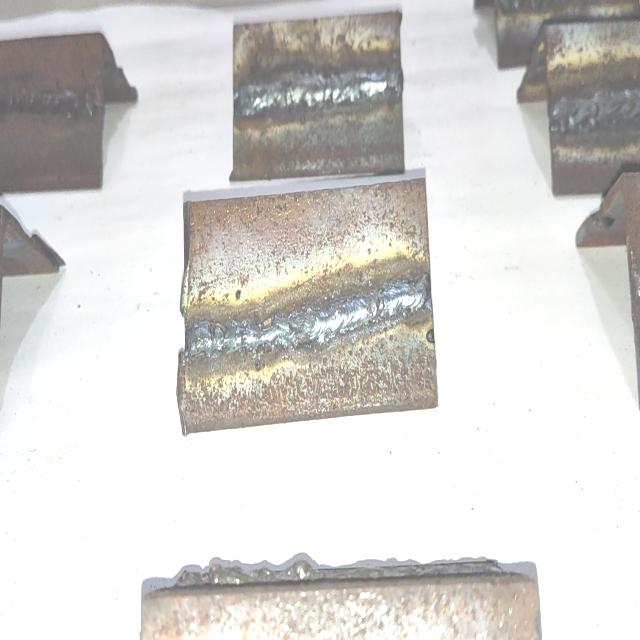Bad Weld: (186, 272, 430, 362)
Defect: (186, 319, 311, 359)
Good Weld: (235, 64, 402, 118), (549, 88, 640, 134), (0, 84, 102, 119)
